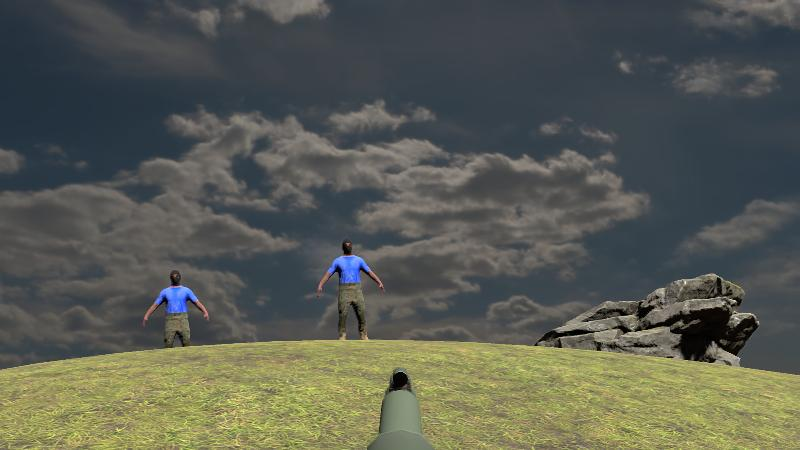Human: (318, 238, 383, 344), (143, 268, 209, 371)
